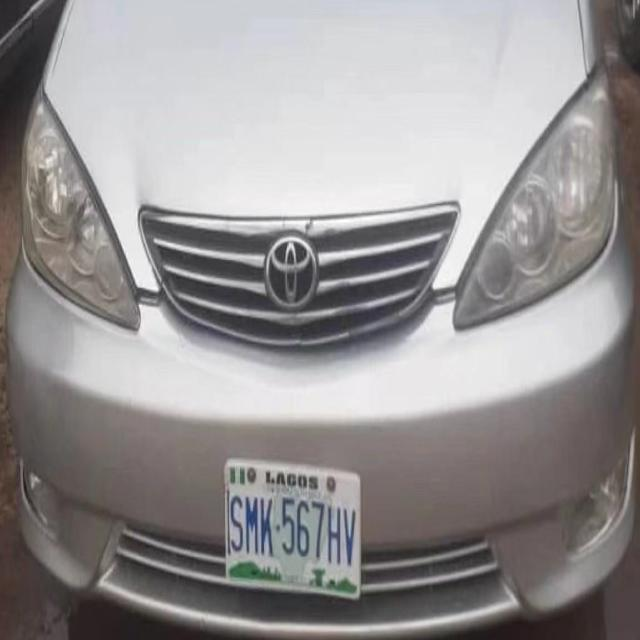Nigerian License Plate - vdataset benjamin-daria: (224, 464, 356, 588)
